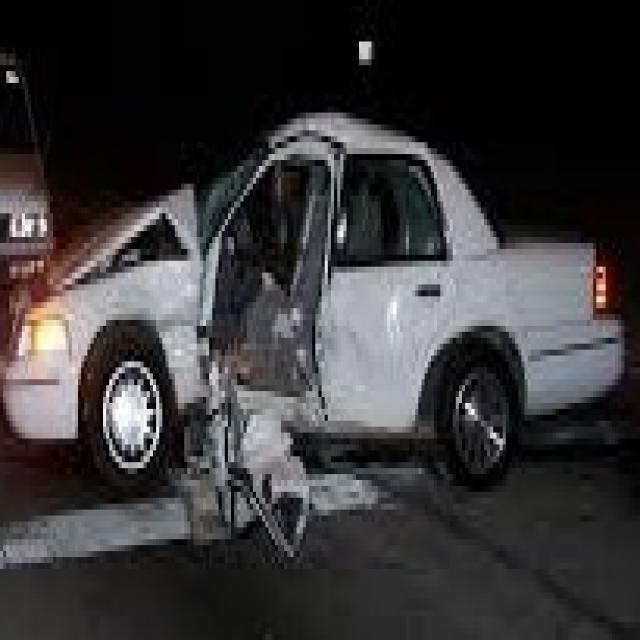moderate: (192, 135, 404, 593)
